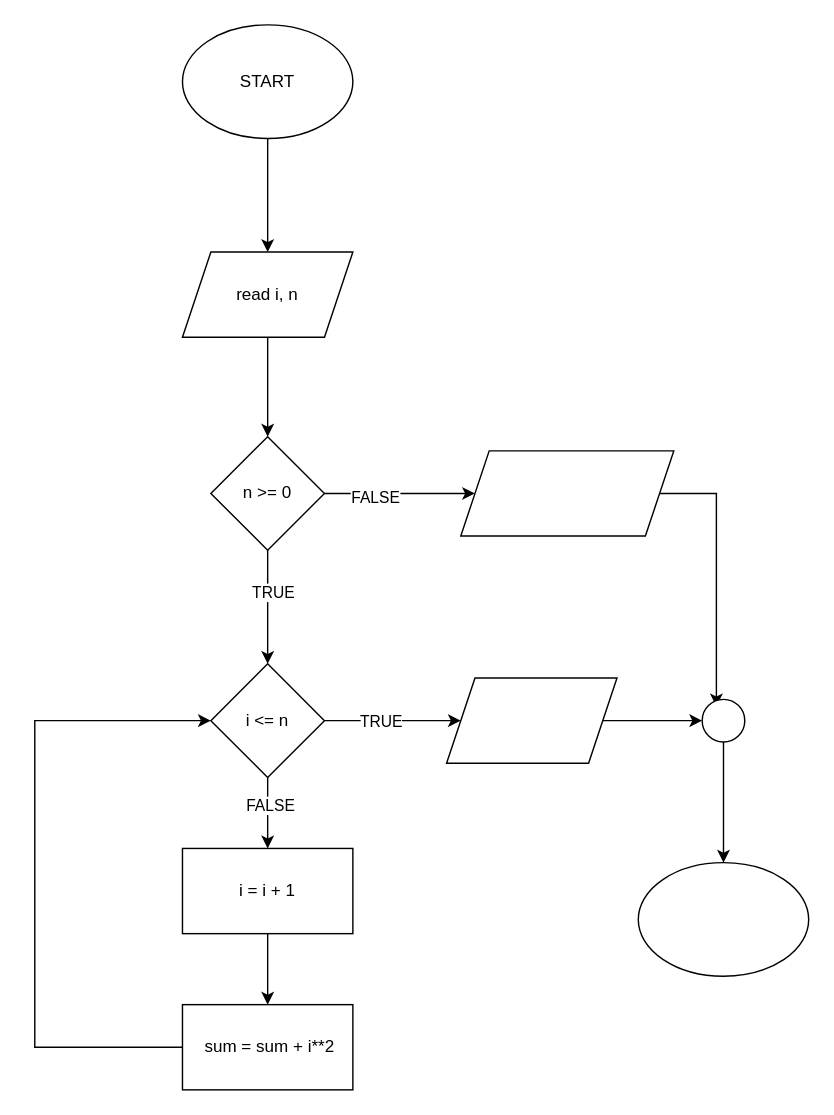
The diagram is 834 pixels wide and 1115 high, and some of its shapes have lost their labels. The centre of each missing label's shape, as x and y in pixels:
END: point (723, 918)
write "bisogna inserire numero positivo": point (566, 492)
write sum: point (531, 720)
